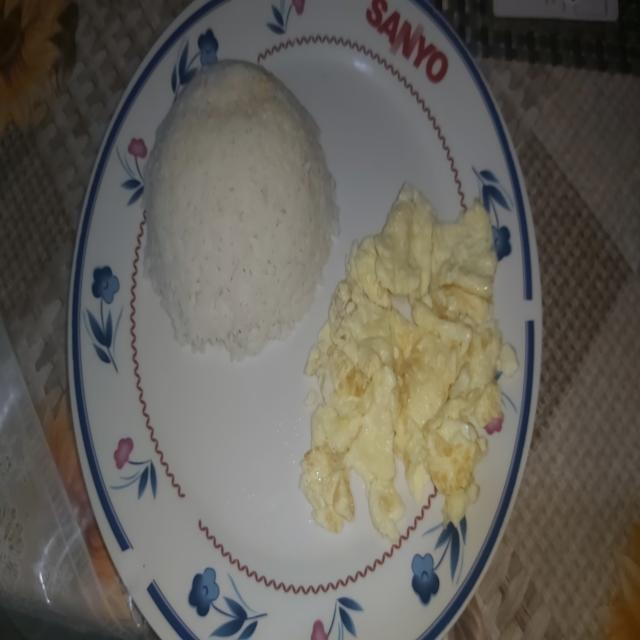Chicken -Chicken Inasal-: (144, 56, 330, 345)
